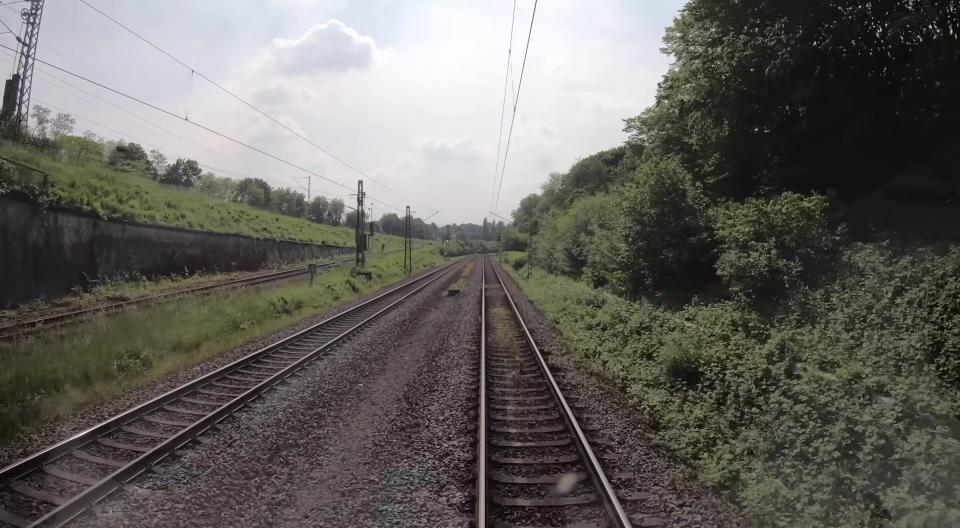Plant: (0, 271, 246, 321), (491, 305, 523, 362), (452, 261, 475, 291), (487, 289, 505, 299)
